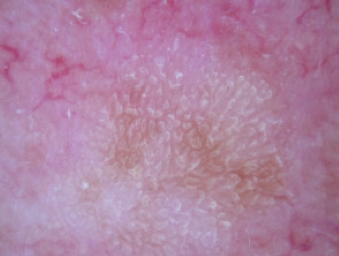seborrheic keratosis: (53, 43, 294, 228)
